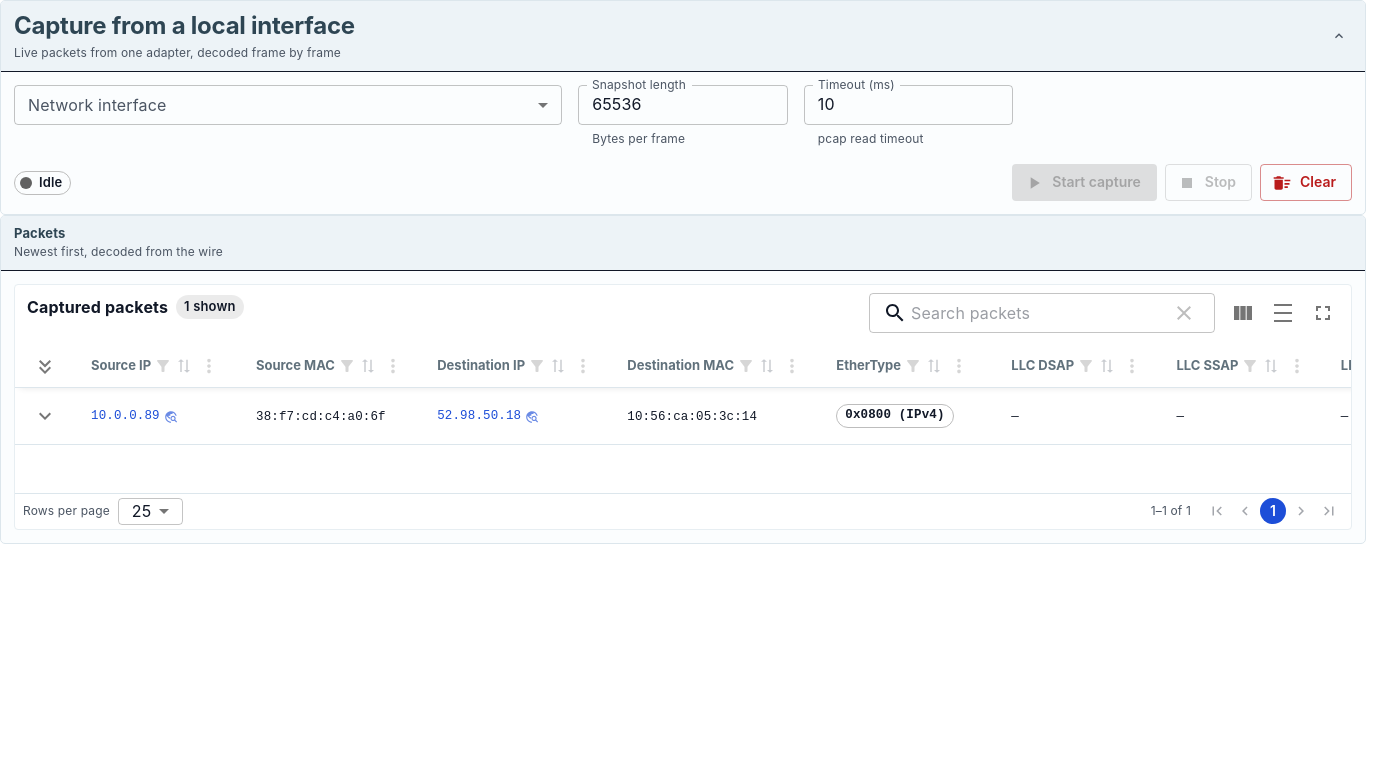
Test: PacketCapture › loads the interface list into the dropdown
The width and height of the screenshot is (1378, 768).
Click the dropdown named "network interface".
click(288, 104)  # box [14, 84, 562, 124]
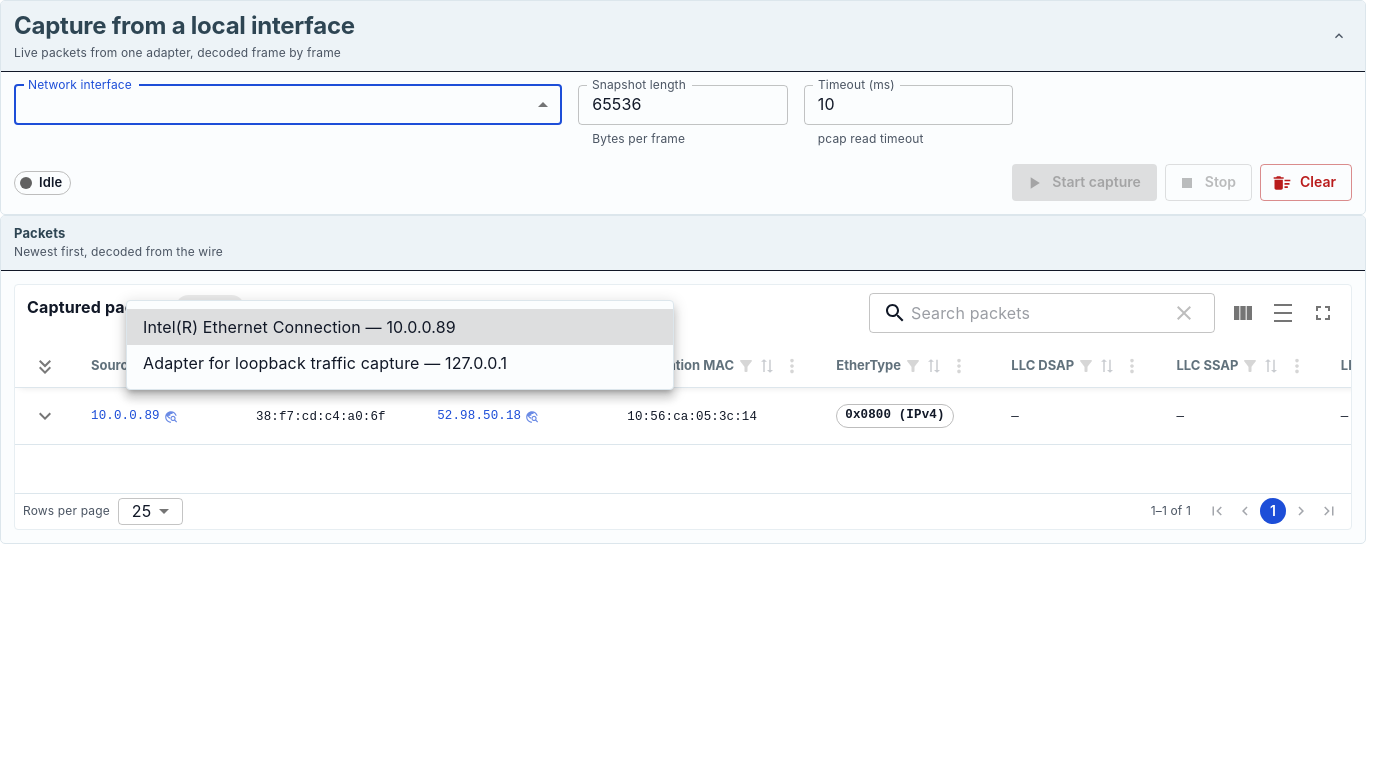
Result: the option "Intel(R) Ethernet Connection — 10.0.0.89" is shown at [127, 309, 673, 345]
Result: the option "Adapter for loopback traffic capture — 127.0.0.1" is shown at [143, 353, 507, 373]
